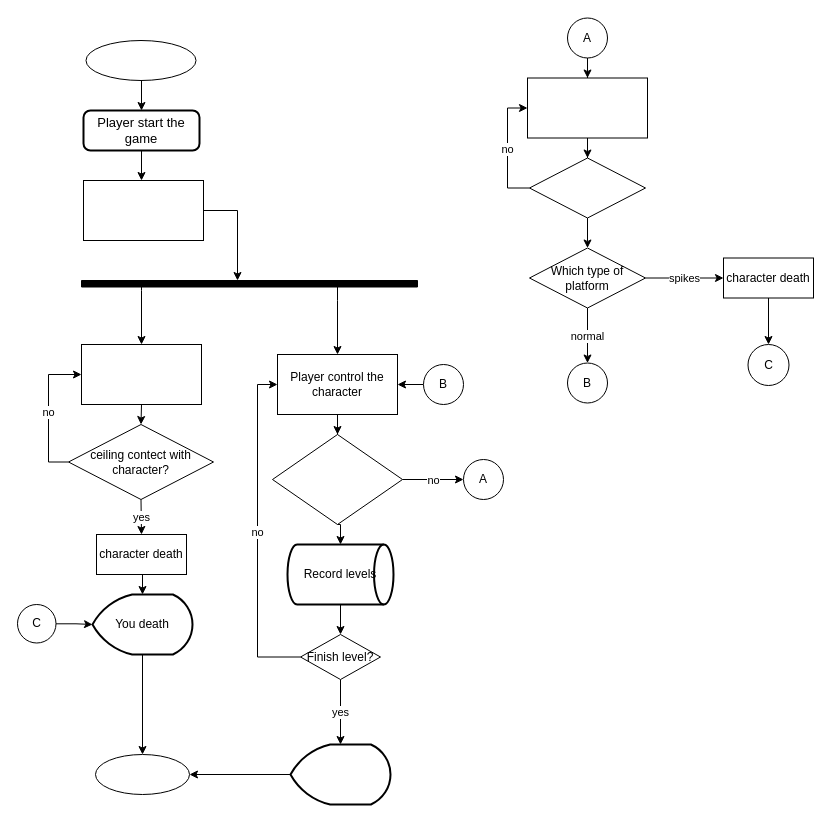
The diagram is 831 pixels wide and 822 high, and some of its shapes have lost their labels. Each missing label, with the box of its shape:
Ceiling start droping down: (80, 344, 202, 404)
Character on the platform?: (272, 434, 402, 524)
Character start at top platform: (82, 180, 204, 240)
Drop down character: (526, 77, 648, 138)
Drop on platfor?: (528, 157, 646, 218)
End: (94, 754, 190, 794)
Start: (85, 40, 196, 80)
You win: (289, 743, 391, 805)
